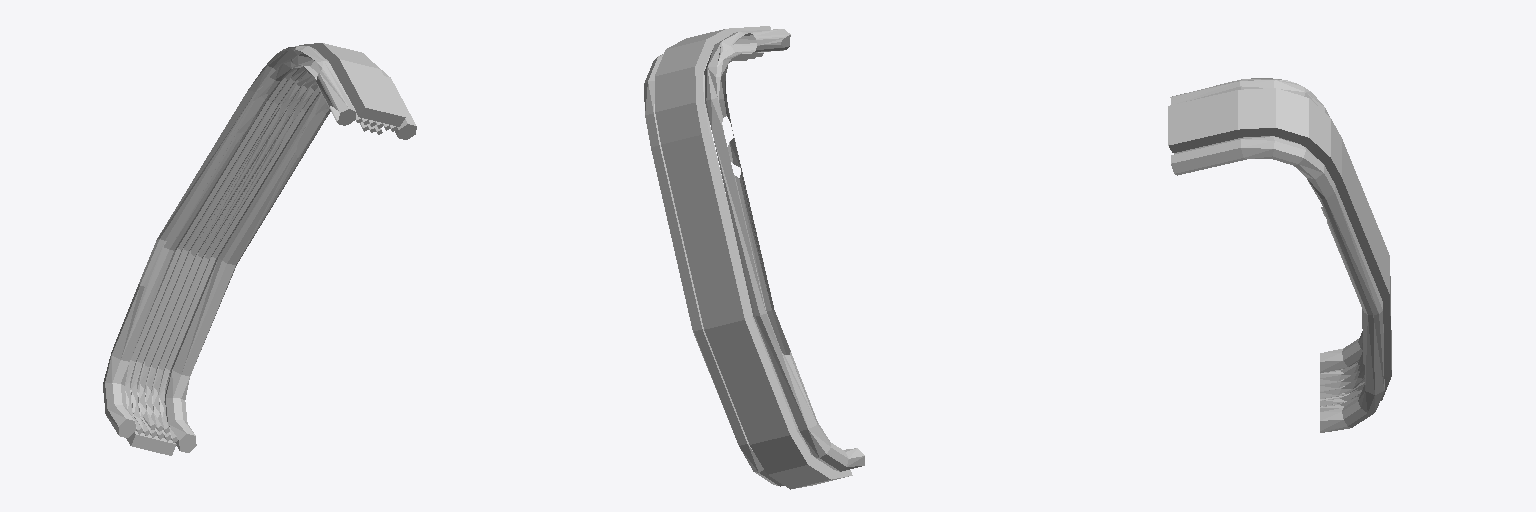
Rendered from elbow1_left_1.obj.
3 renders of one model, left to right at view 1: azimuth 30°, elevation 25°; view 2: azimuth 150°, elevation 25°; view 3: azimuth 270°, elevation 25°, orthographic.
Size of the model in its own units: 0.0365 by 0.0596 by 0.0301.